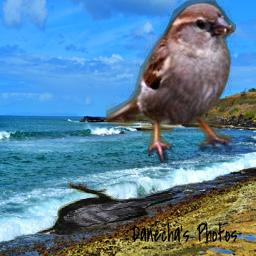Crow: (36, 182, 184, 236)
Sparrow: (106, 1, 236, 164)
